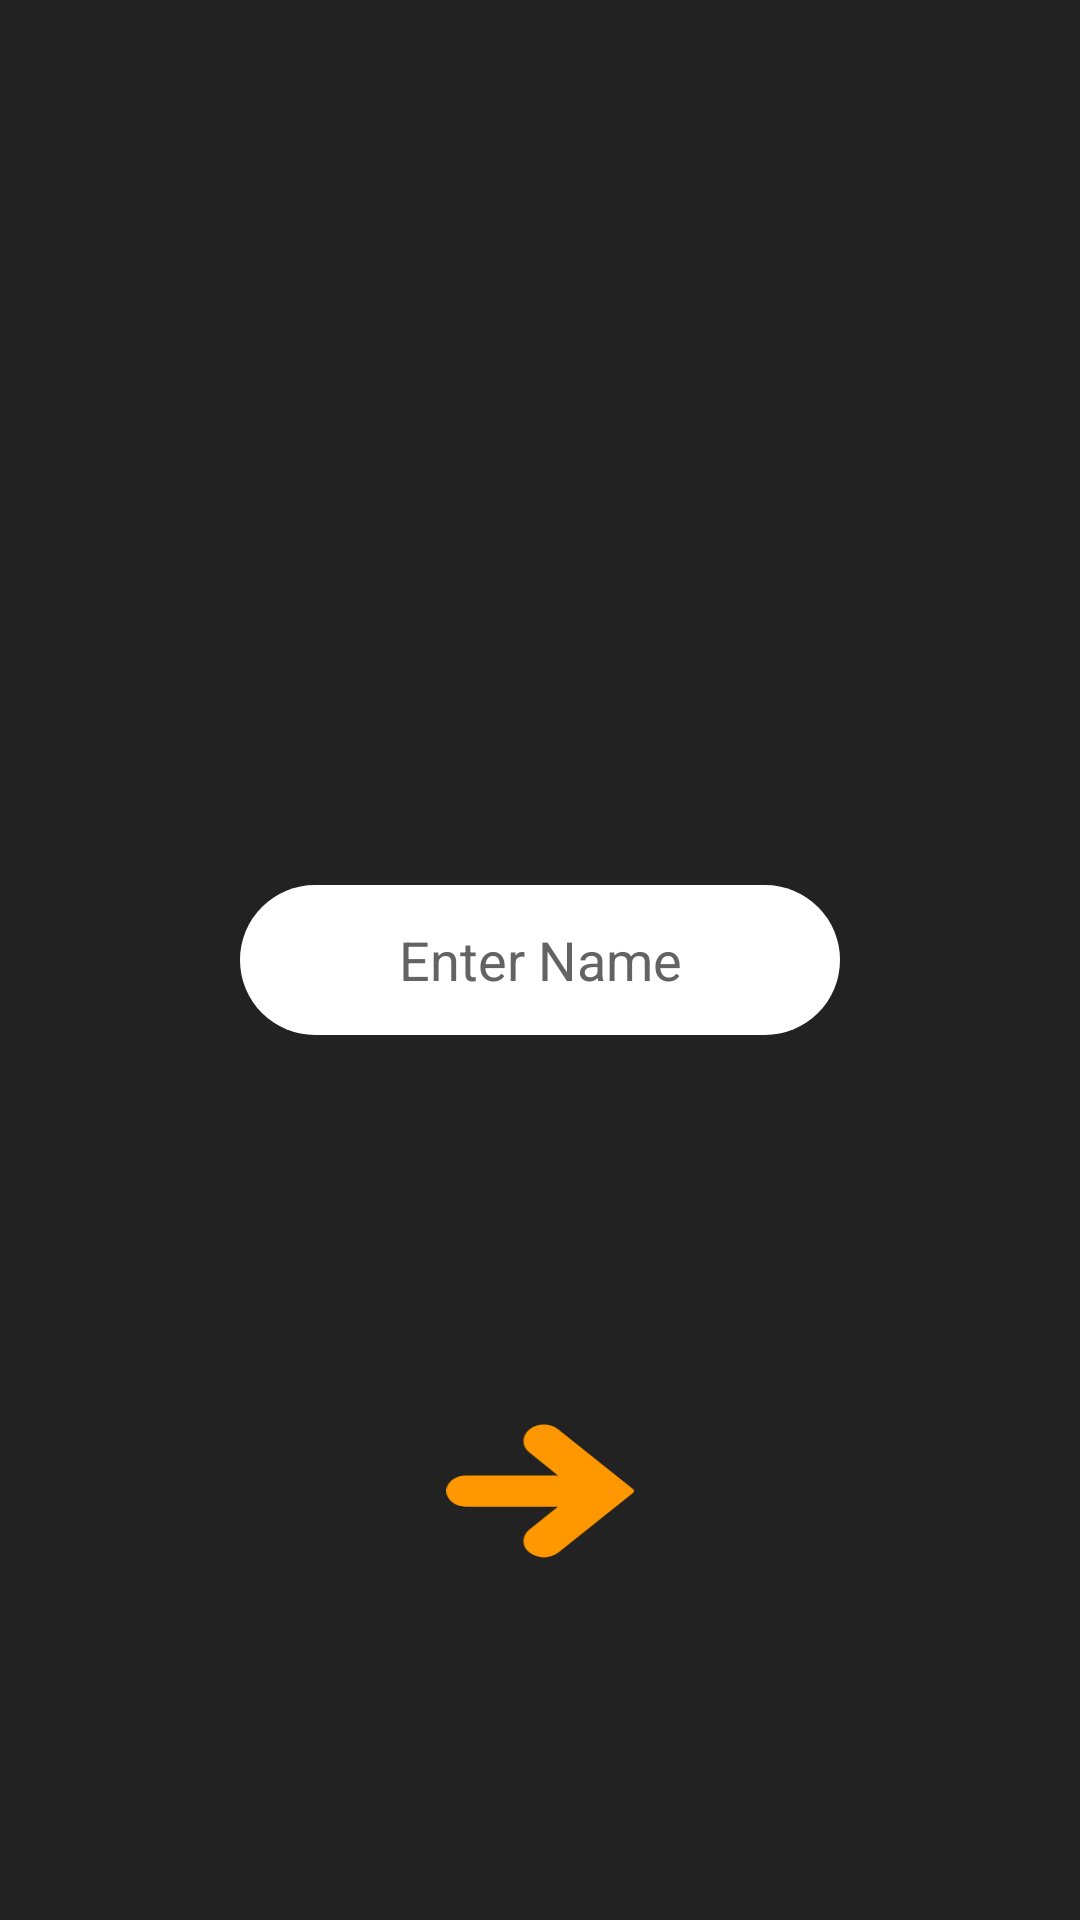

Icon click points for this 1080 × 1920 phone screenshot, format point (x, y):
right arrow: point (540, 1491)
